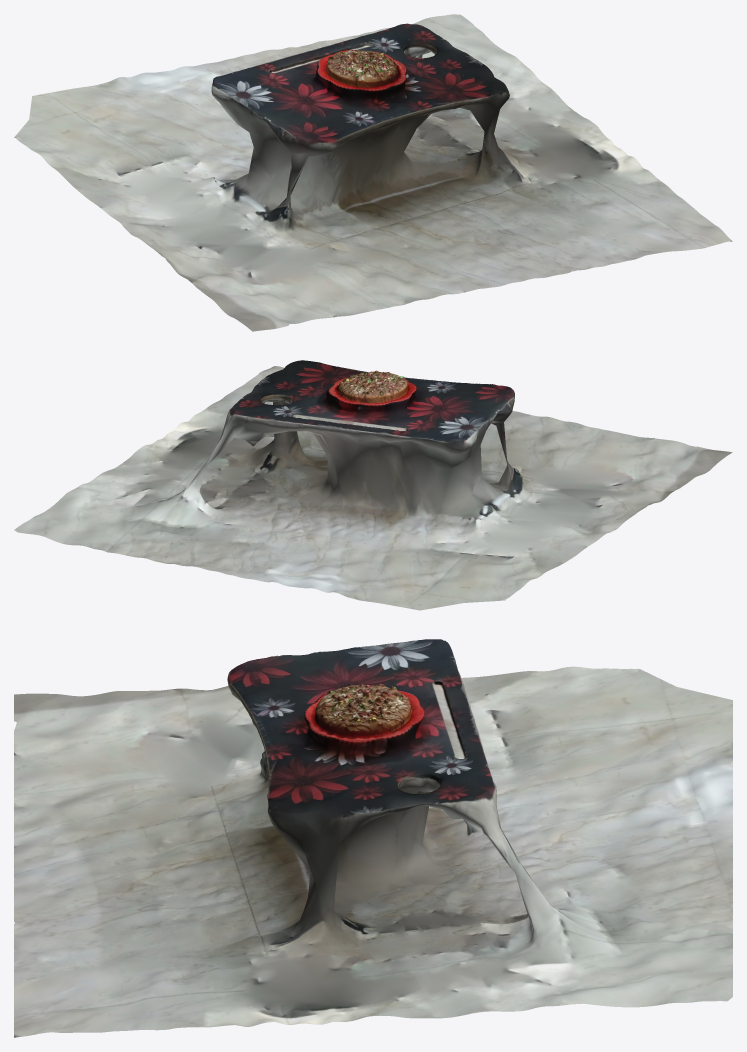
Rendered from 3DModel (8).glb.
3 views of the same model, one above another, from view 1: azimuth 30°, elevation 25°; view 2: azimuth 150°, elevation 25°; view 3: azimuth 270°, elevation 25° (orthographic). The views are drawn at different scales.
Visible parts, largest first — view 1: 3DModel; view 2: 3DModel; view 3: 3DModel.
Part boxes in pixels (left/top/right/bottom): 3DModel: left=14, top=14, right=732, bottom=331; 3DModel: left=14, top=360, right=732, bottom=610; 3DModel: left=14, top=639, right=732, bottom=1037.
Size of the model in its own units: 2.04 by 0.5831 by 2.01.
Materials: 1 (1 with a texture image).
